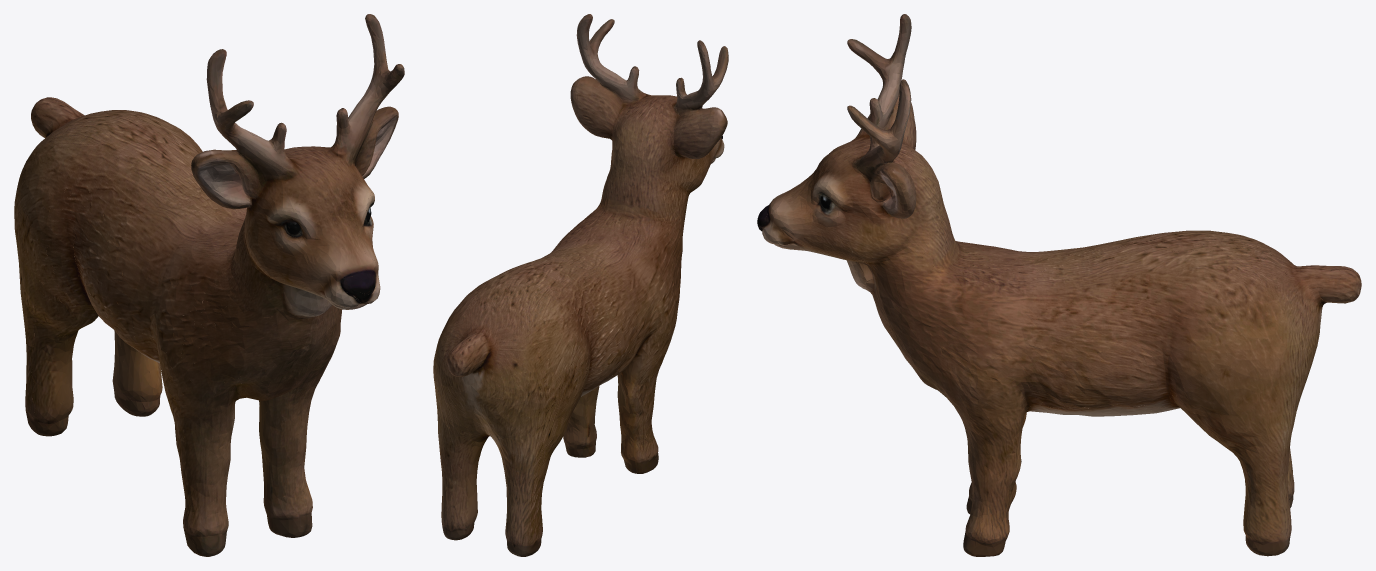
The model's file is vanado.fbx.
3 renders of one model, left to right at view 1: azimuth 30°, elevation 25°; view 2: azimuth 150°, elevation 25°; view 3: azimuth 270°, elevation 25°, orthographic. The views are drawn at different scales.
Parts seen in each view (by area): view 1: venado; view 2: venado; view 3: venado.
Boxes of the visible parts, x1,y1,x2,y2 form: venado: (14, 14, 404, 556); venado: (433, 14, 728, 556); venado: (757, 14, 1361, 556).
Bounding box in the file's own units: 0.6996 × 1.77 × 1.99.
Materials: 1 (1 with a texture image).
